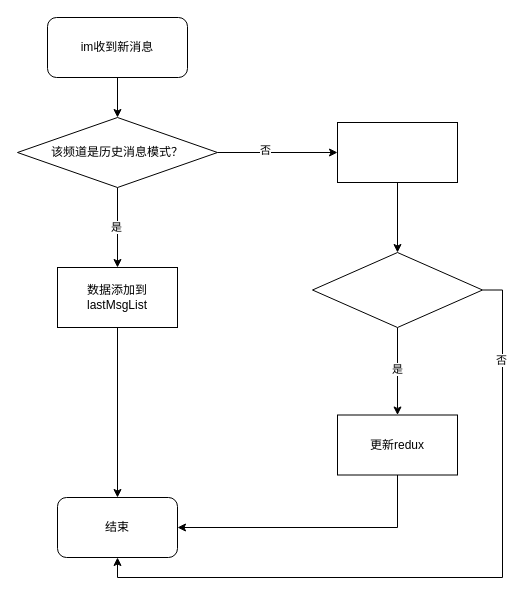
This 528x603 diagram has some shape labels left out. Each missing label, with the centre of its shape:
"在当前频道？" goes at (x=397, y=290).
"数据添加到已有列表" goes at (x=397, y=152).
